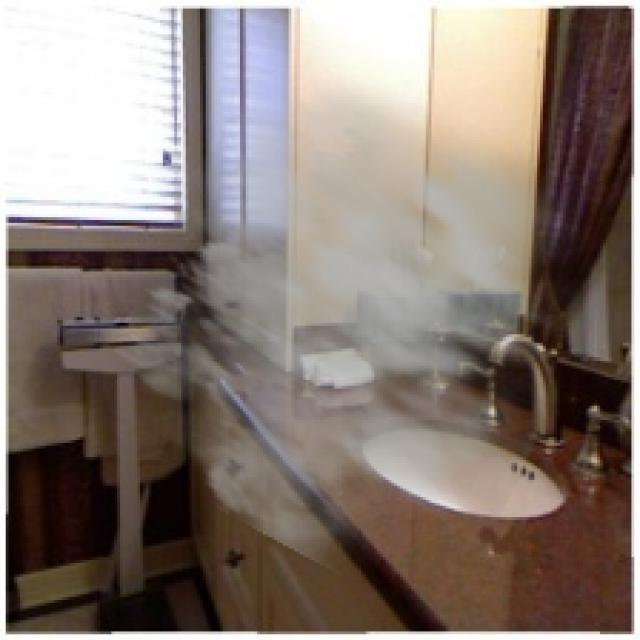smoke: (112, 63, 637, 588)
